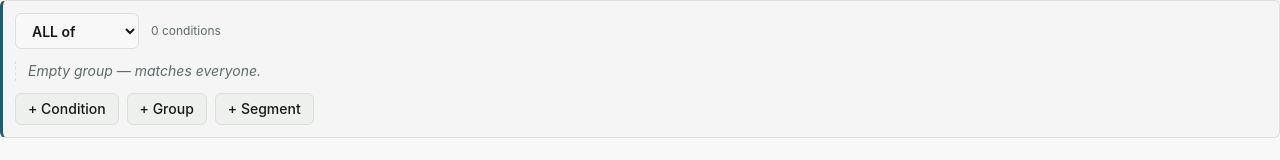
Scenario: RuleBuilder › warns that an empty ANY group matches nobody
The image size is (1280, 160).
Step 1. Select "ANY of" in the dropdown named "Boolean operator" → (77, 31), box x1=15 y1=13 x2=139 y2=49
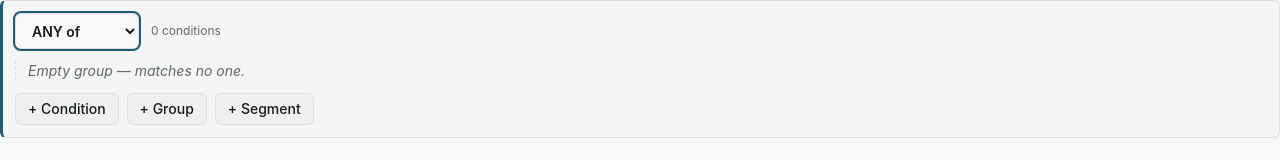
Check: the text "Empty group — matches no one." is shown, box x1=28 y1=62 x2=245 y2=79
